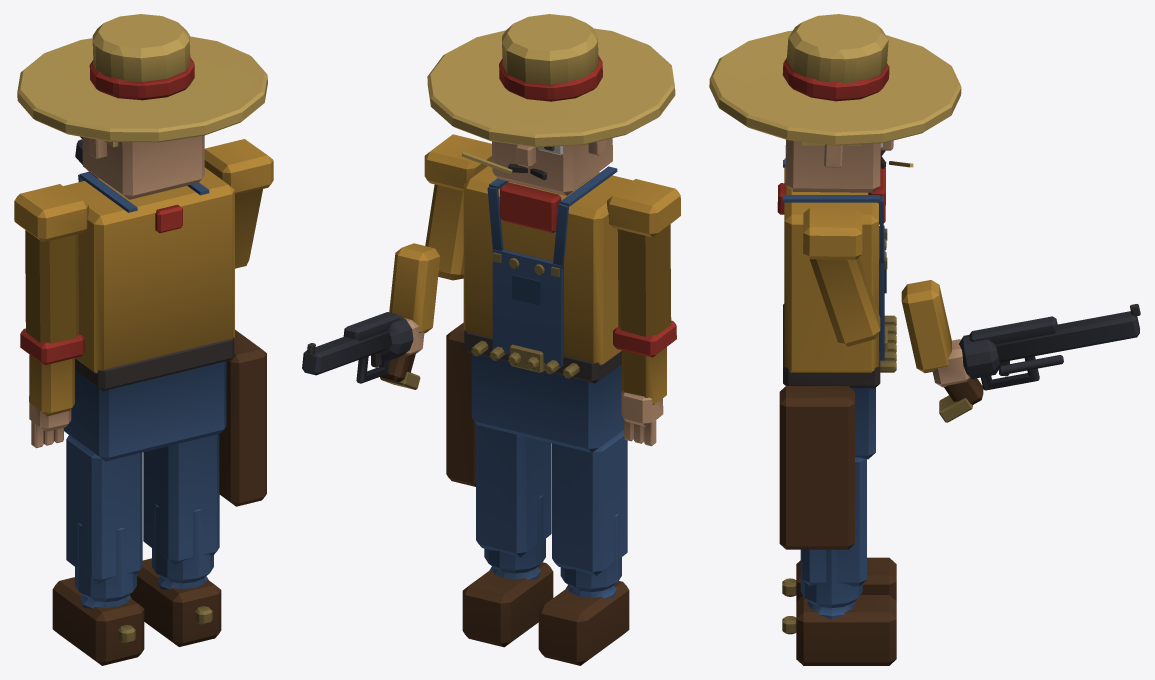
File: cowboy_greenhorn.glb
3 renders of one model, left to right at view 1: azimuth 30°, elevation 25°; view 2: azimuth 150°, elevation 25°; view 3: azimuth 270°, elevation 25°, orthographic.
Parts seen in each view (by area): view 1: O_Torso, O_Hat, O_Pelvis, O_Leg_L, O_Leg_R, O_Sleeve_L, O_Head, O_Shin_L, O_Shin_R, O_Sleeve_R, O_Cuff_L; view 2: O_Torso, O_Hat, O_Pelvis, O_Leg_L, O_Leg_R, O_Sleeve_L, O_Shin_L, O_Shin_R, O_Frame, O_Head, O_Fore_R, O_Sleeve_R (+1 smaller); view 3: O_Hat, O_Pelvis, O_Torso, O_Frame, O_Shin_R, O_Head, O_Leg_R, O_Fore_R, O_Sleeve_R, O_Shin_L.
Part boxes in pixels (<box>): O_Torso: <box>14,139,273,373</box>; O_Hat: <box>17,14,267,142</box>; O_Pelvis: <box>64,329,266,506</box>; O_Leg_L: <box>66,435,142,601</box>; O_Leg_R: <box>143,434,219,583</box>; O_Sleeve_L: <box>25,230,78,448</box>; O_Head: <box>82,135,204,199</box>; O_Shin_L: <box>52,577,144,665</box>; O_Shin_R: <box>130,558,221,646</box>; O_Sleeve_R: <box>235,188,262,268</box>; O_Cuff_L: <box>20,328,84,365</box>; O_Torso: <box>424,134,680,366</box>; O_Hat: <box>427,14,675,147</box>; O_Pelvis: <box>446,322,623,486</box>; O_Leg_L: <box>552,429,627,591</box>; O_Leg_R: <box>476,423,551,573</box>; O_Sleeve_L: <box>617,224,671,446</box>; O_Shin_L: <box>538,581,629,665</box>; O_Shin_R: <box>462,562,553,647</box>; O_Frame: <box>302,312,420,389</box>; O_Head: <box>492,138,612,195</box>; O_Fore_R: <box>389,243,440,356</box>; O_Sleeve_R: <box>425,184,463,280</box>; O_Hat: <box>709,14,961,145</box>; O_Pelvis: <box>779,304,896,549</box>; O_Torso: <box>777,158,887,372</box>; O_Frame: <box>939,304,1140,422</box>; O_Shin_R: <box>782,595,896,665</box>; O_Head: <box>785,139,893,192</box>; O_Leg_R: <box>800,457,866,608</box>; O_Fore_R: <box>901,280,970,387</box>; O_Sleeve_R: <box>809,257,880,346</box>; O_Shin_L: <box>782,557,896,601</box>.
Size of the model in its own units: 0.92 by 2.27 by 1.46.
